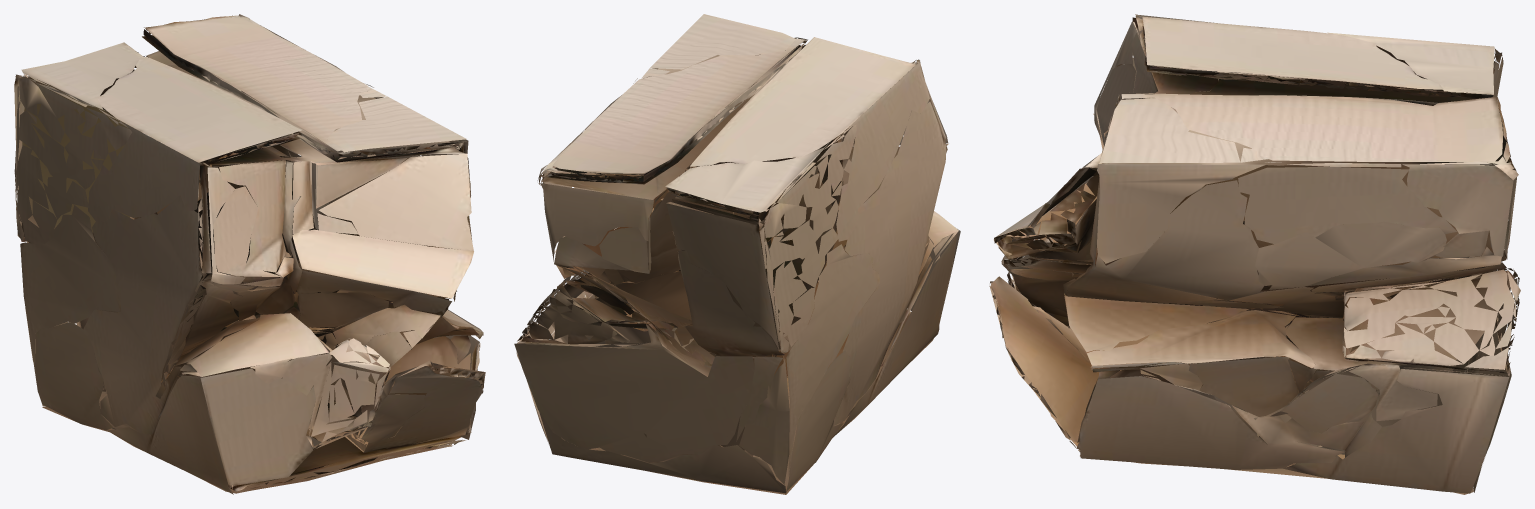
Rendered from box_crush_lod0.glb.
3 views of the same model, side by side, from view 1: azimuth 30°, elevation 25°; view 2: azimuth 150°, elevation 25°; view 3: azimuth 270°, elevation 25° (orthographic). The views are drawn at different scales.
Parts seen in each view (by area): view 1: node_0; view 2: node_0; view 3: node_0.
Boxes of the visible parts, x1,y1,x2,y2 form: node_0: (14, 14, 485, 494); node_0: (514, 14, 960, 494); node_0: (989, 14, 1520, 494).
Size of the model in its own units: 0.8238 by 0.9958 by 1.3.
Materials: 1 (1 with a texture image).
